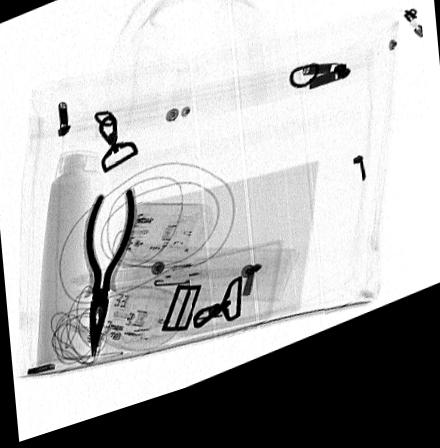Pliers: (83, 194, 138, 364)
